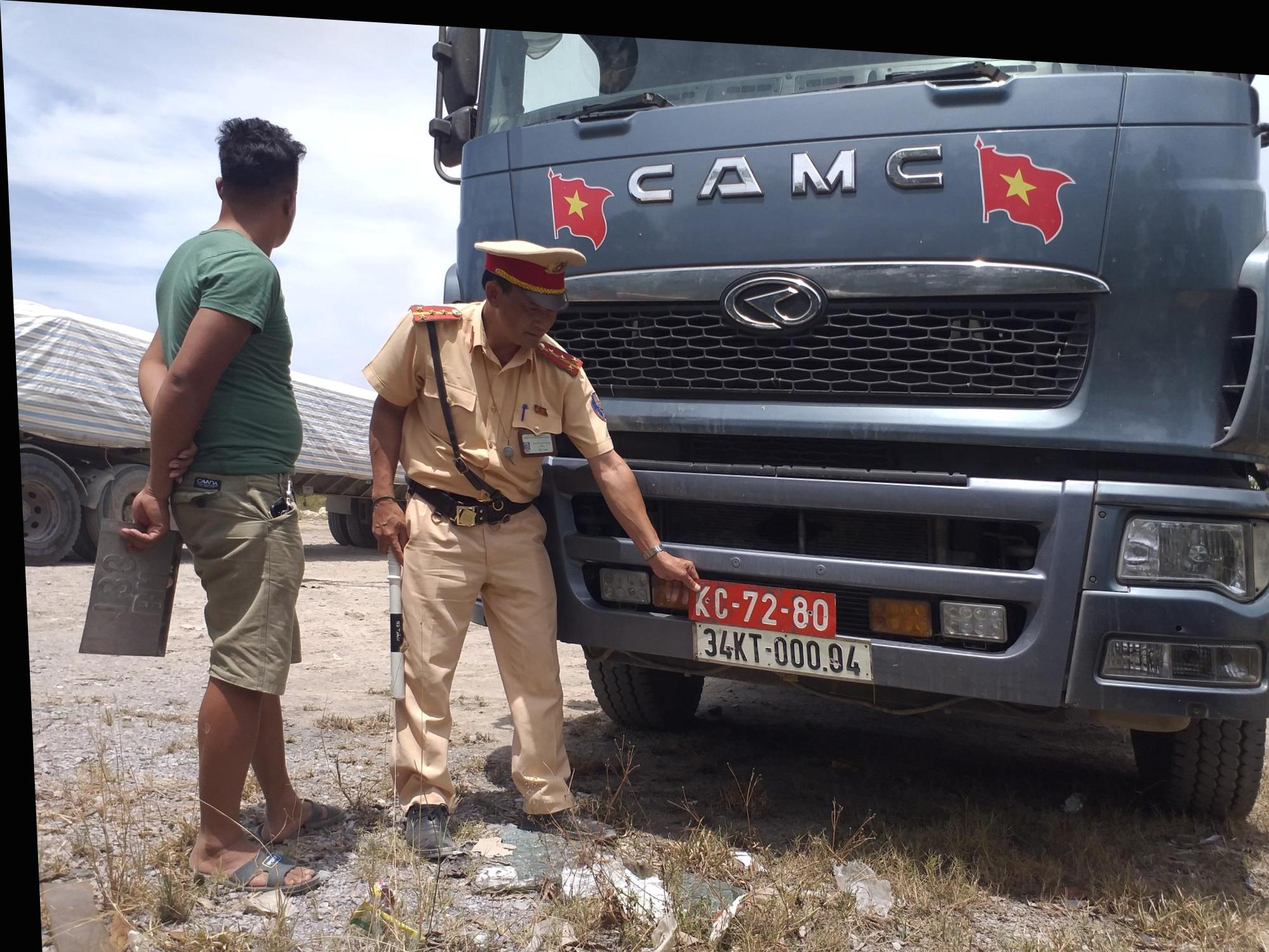License_Plate: (687, 617, 877, 689), (679, 573, 845, 639)
